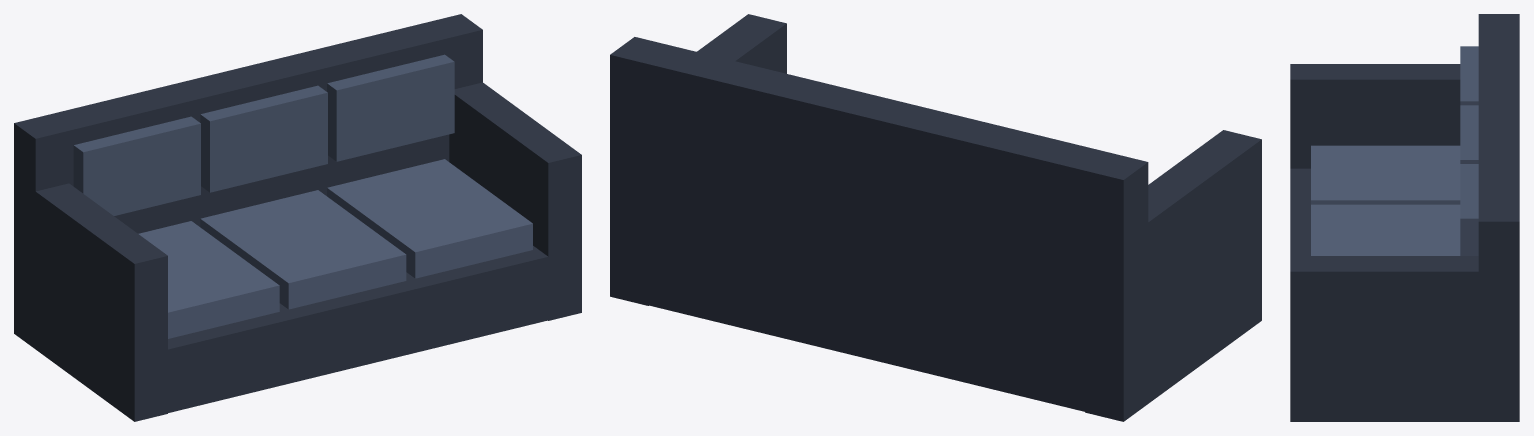
The model's file is sofa.glb.
3 renders of one model, left to right at view 1: azimuth 30°, elevation 25°; view 2: azimuth 150°, elevation 25°; view 3: azimuth 270°, elevation 25°, orthographic. The views are drawn at different scales.
Visible parts, largest first — view 1: sofa; view 2: sofa; view 3: sofa.
Part boxes in pixels (bbox=[...]): sofa: bbox=[14, 14, 581, 421]; sofa: bbox=[610, 14, 1261, 421]; sofa: bbox=[1290, 14, 1519, 421].
Bounding box in the file's own units: 1.83 × 0.823 × 0.8534.
